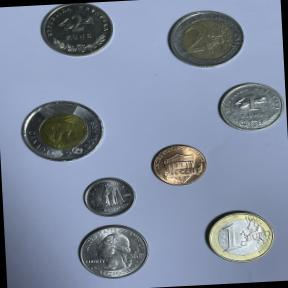coin: (14, 94, 110, 170), (162, 4, 250, 74), (70, 221, 154, 286), (36, 1, 118, 62), (200, 207, 278, 266), (145, 139, 211, 192), (78, 173, 140, 222)
